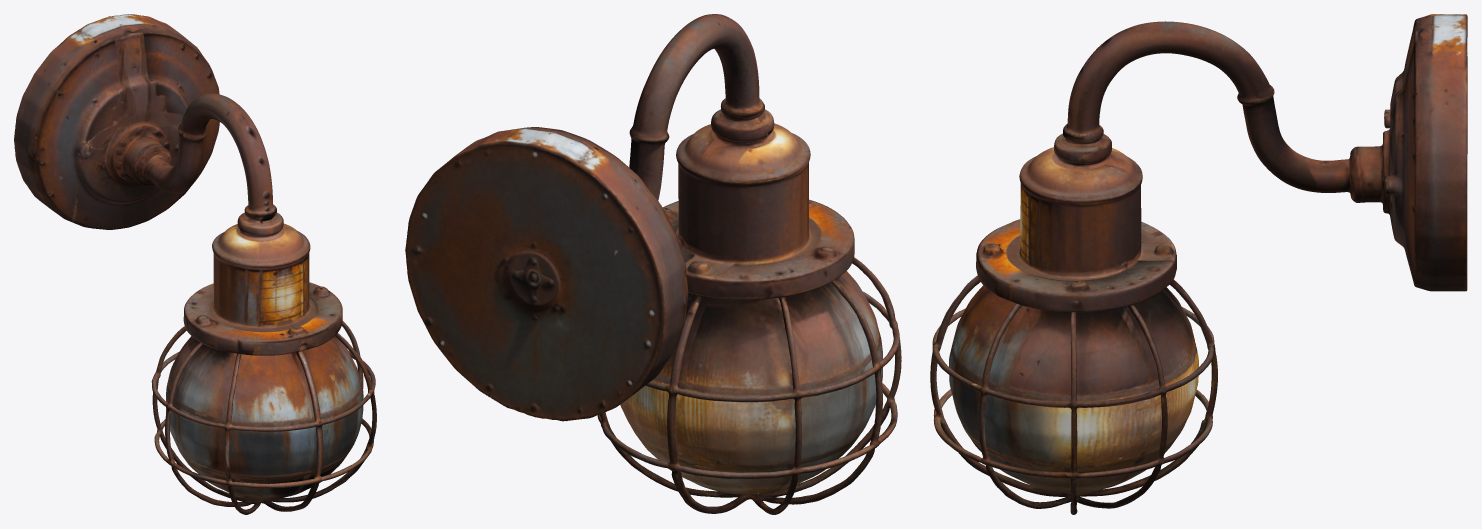
The model's file is a_old_industrial_rust_0423154834.fbx.
3 renders of one model, left to right at view 1: azimuth 30°, elevation 25°; view 2: azimuth 150°, elevation 25°; view 3: azimuth 270°, elevation 25°, orthographic. The views are drawn at different scales.
Parts seen in each view (by area): view 1: Mesh_0; view 2: Mesh_0; view 3: Mesh_0.
Boxes of the visible parts, bbox=[...] form: Mesh_0: bbox=[14, 14, 376, 514]; Mesh_0: bbox=[405, 14, 901, 514]; Mesh_0: bbox=[930, 14, 1467, 514].
Bounding box in the file's own units: 108 × 195 × 200.
1 material, 1 textured.
